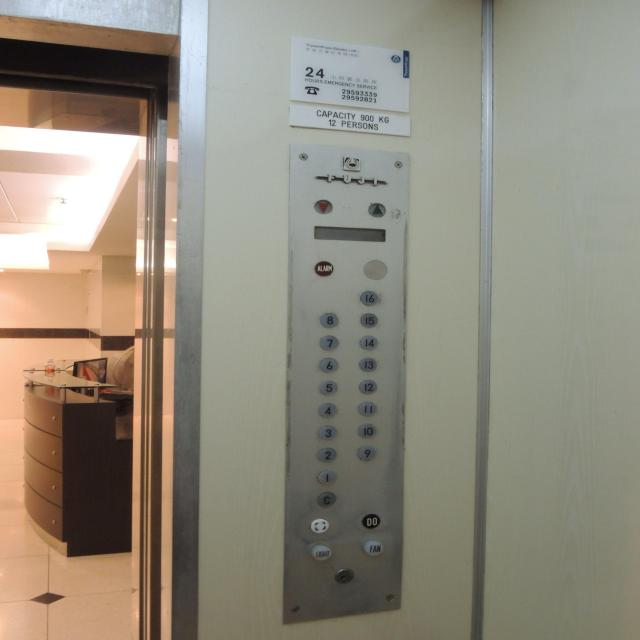1: (317, 470, 337, 486)
10: (358, 423, 378, 438)
11: (358, 401, 377, 416)
12: (358, 379, 378, 395)
13: (358, 357, 378, 372)
14: (359, 334, 378, 350)
15: (360, 313, 378, 327)
16: (360, 291, 378, 305)
2: (317, 446, 337, 463)
3: (317, 424, 338, 440)
4: (318, 402, 338, 418)
5: (318, 379, 338, 396)
6: (318, 356, 339, 374)
7: (320, 335, 340, 350)
8: (320, 312, 339, 328)
9: (357, 446, 376, 460)
C: (316, 491, 336, 508)
DO: (361, 513, 381, 529)
down: (314, 198, 334, 215)
empty: (362, 258, 388, 281)
keyhole: (334, 567, 354, 585)
text_alarm bell: (313, 260, 334, 278)
text_fan: (362, 539, 384, 555)
text_light: (310, 543, 332, 561)
unknown: (309, 517, 330, 533), (342, 156, 362, 172)
up: (368, 202, 386, 218)
